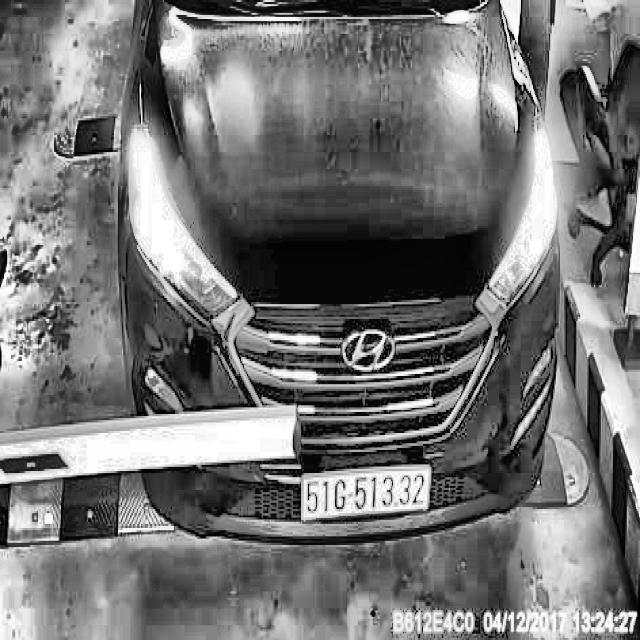plate: (297, 459, 435, 526)
